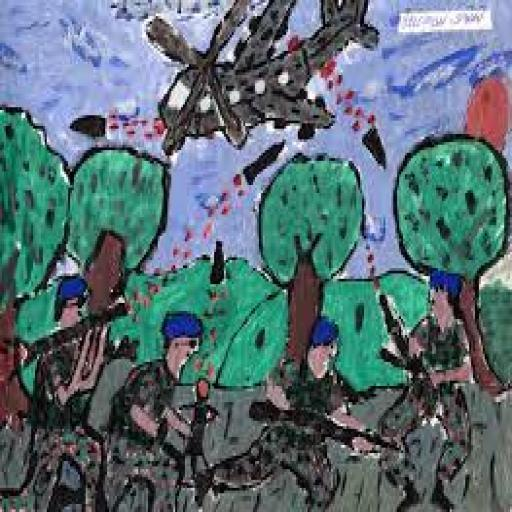person: (190, 308, 380, 506), (4, 228, 132, 510), (374, 270, 482, 510), (105, 283, 214, 499)
